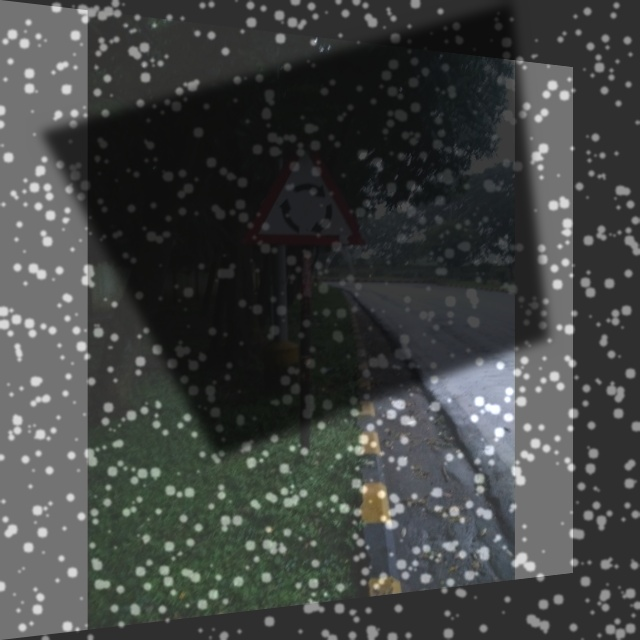Round_About: (236, 131, 368, 256)
